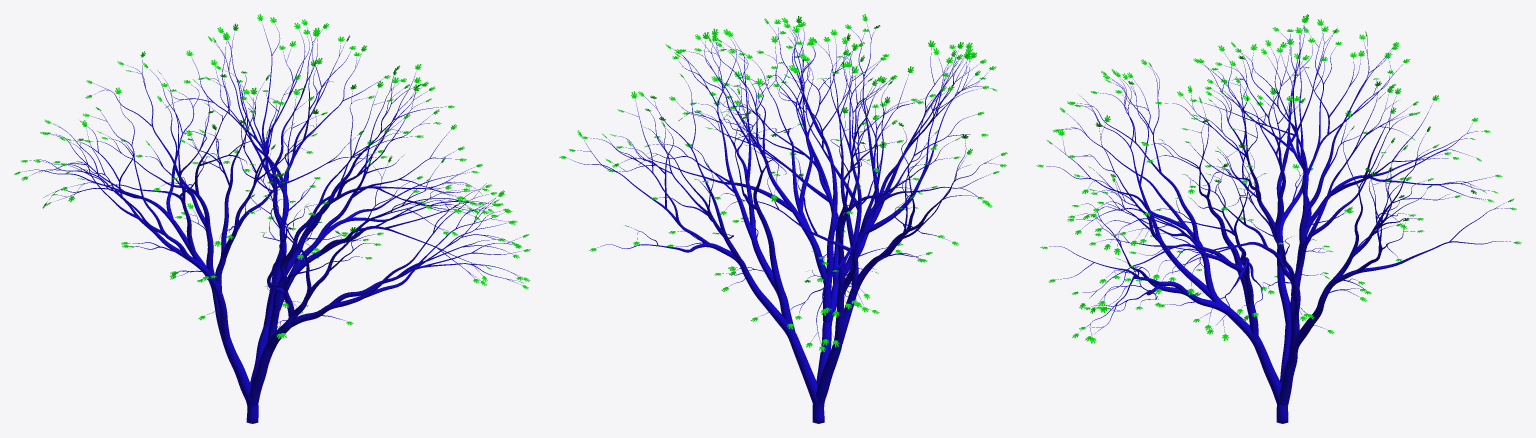
The model's file is Tree.fbx.
The picture shows the model from 3 angles, left to right: view 1: azimuth 30°, elevation 25°; view 2: azimuth 150°, elevation 25°; view 3: azimuth 270°, elevation 25°; orthographic projection.
Parts seen in each view (by area): view 1: tree; view 2: tree; view 3: tree.
Part boxes in pixels (left/top/right/bottom): tree: left=14, top=14, right=530, bottom=423; tree: left=559, top=14, right=1007, bottom=423; tree: left=1036, top=14, right=1521, bottom=423.
Size of the model in its own units: 1073 by 925 by 1116.
